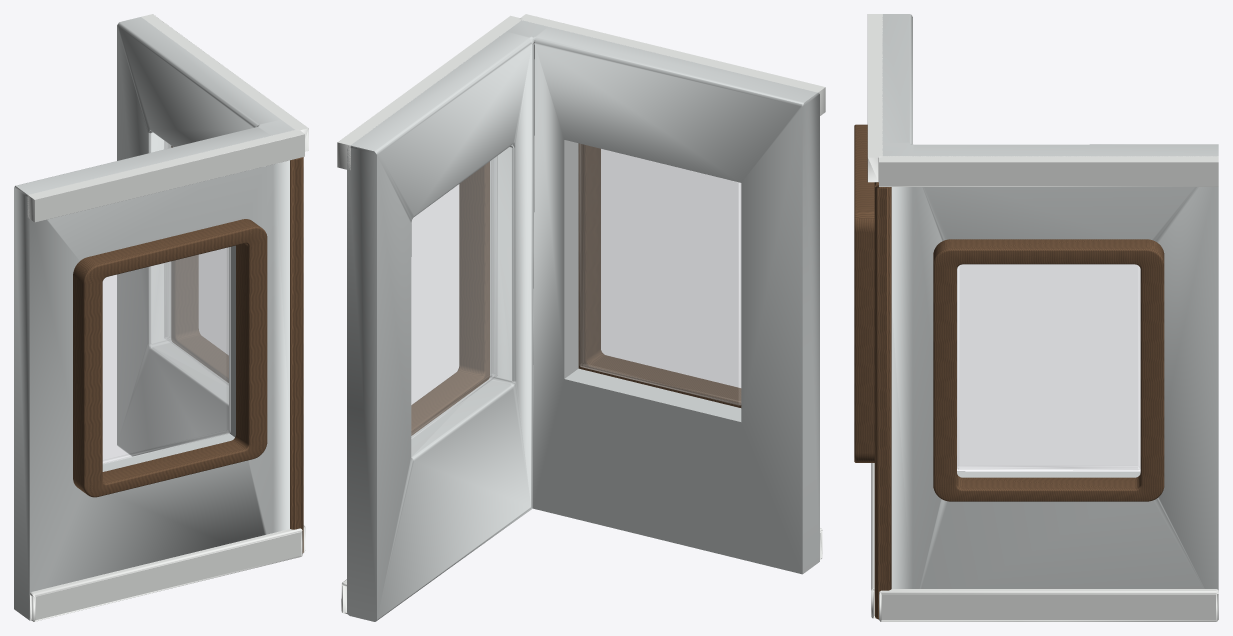
The model's file is CornerWindow90.glb.
3 views of the same model, side by side, from view 1: azimuth 30°, elevation 25°; view 2: azimuth 150°, elevation 25°; view 3: azimuth 270°, elevation 25° (orthographic). The views are drawn at different scales.
Visible parts, largest first — view 1: PBK_substrate.001, PBK_glass.001, PBK_Continuous_Frame_Modern_Window.003, PBK_floor_band.001, PBK_base_trim.001, PBK_glass.003, PBK_ShopCornerPost90.021, PBK_Continuous_Frame_Modern_Window.004; view 2: PBK_substrate.001, PBK_glass.001, PBK_glass.003, PBK_Continuous_Frame_Modern_Window.004, PBK_Continuous_Frame_Modern_Window.003, PBK_floor_band.001; view 3: PBK_substrate.001, PBK_glass.003, PBK_Continuous_Frame_Modern_Window.004, PBK_floor_band.001, PBK_base_trim.003, PBK_ShopCornerPost90.021, PBK_Continuous_Frame_Modern_Window.003, PBK_base_trim.001.
Boxes of the visible parts, x1=… form: PBK_substrate.001: x1=14, y1=17, x2=294, y2=620; PBK_glass.001: x1=103, y1=247, x2=230, y2=464; PBK_Continuous_Frame_Modern_Window.003: x1=73, y1=219, x2=267, y2=497; PBK_floor_band.001: x1=27, y1=14, x2=308, y2=222; PBK_base_trim.001: x1=29, y1=528, x2=302, y2=621; PBK_glass.003: x1=164, y1=141, x2=228, y2=385; PBK_ShopCornerPost90.021: x1=290, y1=157, x2=303, y2=553; PBK_Continuous_Frame_Modern_Window.004: x1=171, y1=146, x2=228, y2=382; PBK_substrate.001: x1=347, y1=20, x2=819, y2=621; PBK_glass.001: x1=579, y1=144, x2=740, y2=405; PBK_glass.003: x1=411, y1=156, x2=497, y2=438; PBK_Continuous_Frame_Modern_Window.004: x1=411, y1=161, x2=489, y2=435; PBK_Continuous_Frame_Modern_Window.003: x1=578, y1=143, x2=741, y2=407; PBK_floor_band.001: x1=337, y1=14, x2=825, y2=170; PBK_substrate.001: x1=882, y1=14, x2=1218, y2=590; PBK_glass.003: x1=957, y1=264, x2=1140, y2=469; PBK_Continuous_Frame_Modern_Window.004: x1=933, y1=239, x2=1164, y2=501; PBK_floor_band.001: x1=867, y1=14, x2=1218, y2=186; PBK_base_trim.003: x1=879, y1=589, x2=1218, y2=621; PBK_ShopCornerPost90.021: x1=874, y1=182, x2=891, y2=619; PBK_Continuous_Frame_Modern_Window.003: x1=854, y1=124, x2=874, y2=462; PBK_base_trim.001: x1=871, y1=463, x2=875, y2=618.
Size of the model in its own units: 2.15 by 3 by 2.14.
5 materials, 2 textured.
